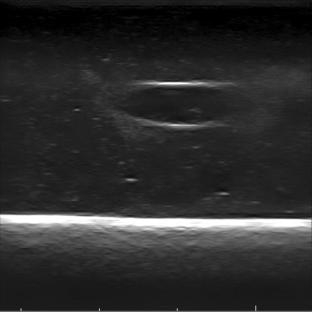vessel: (114, 79, 237, 131)
